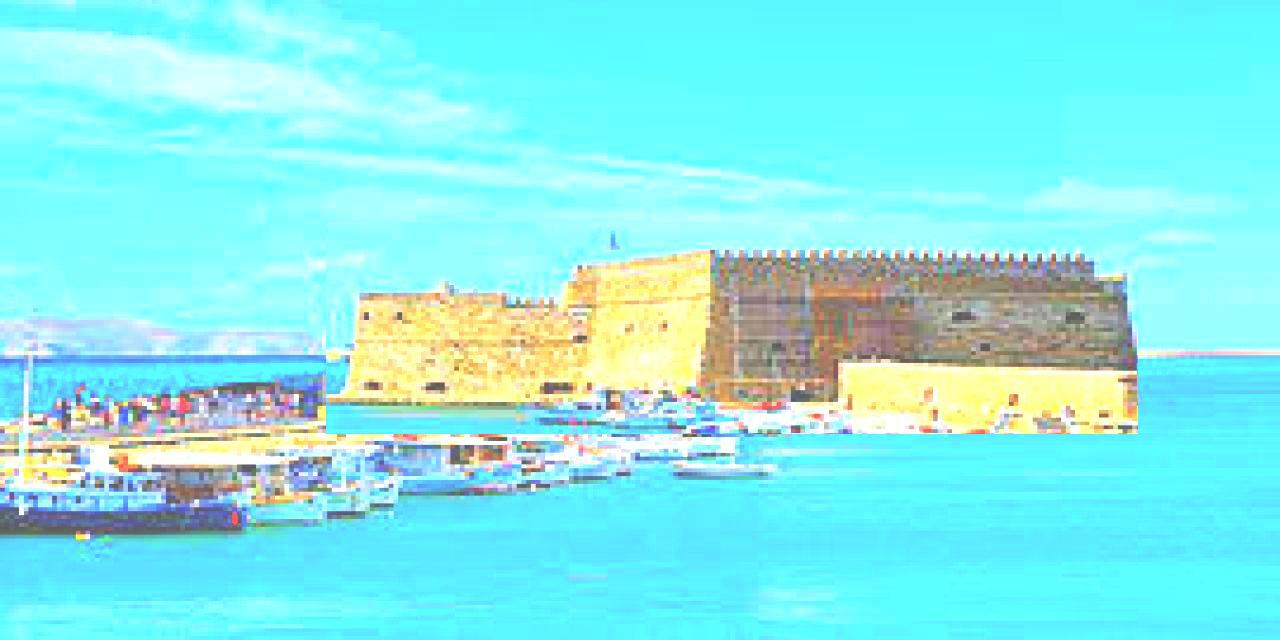Kules: (327, 223, 1139, 435)
